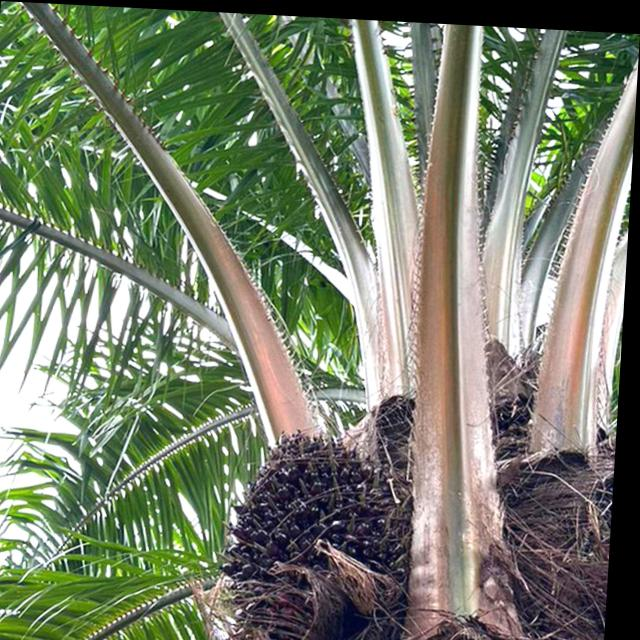almost: (219, 418, 416, 640)
